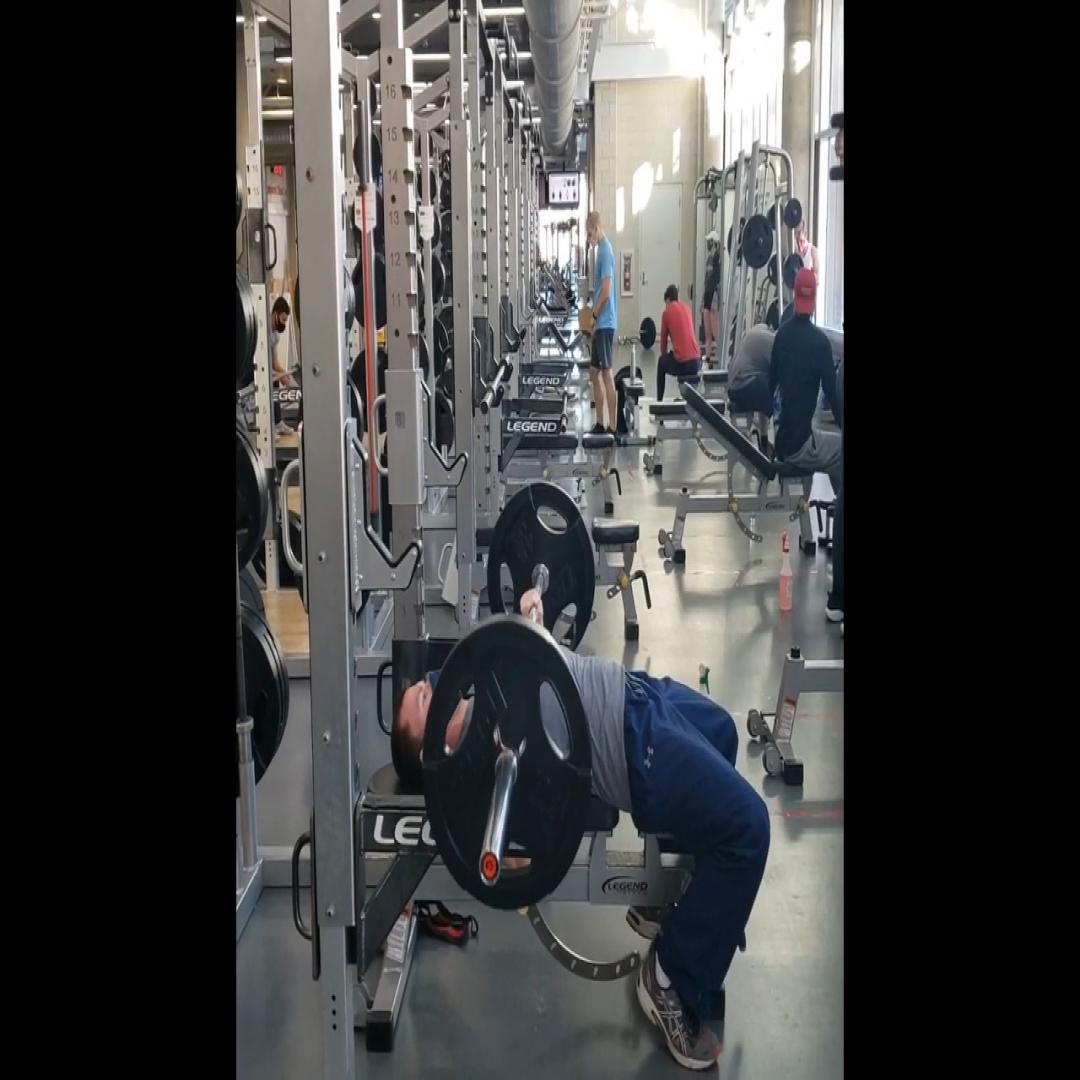Bar: (478, 846, 502, 888)
Barbell: (422, 621, 592, 911)
